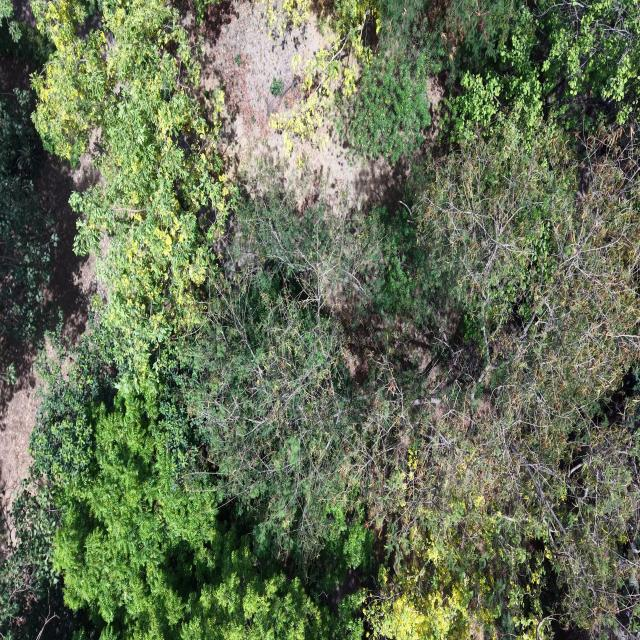DRY_AREA: (201, 2, 444, 219), (185, 0, 407, 215), (185, 0, 408, 214), (201, 2, 359, 206), (201, 2, 325, 153), (201, 0, 297, 166), (35, 152, 98, 344), (36, 153, 95, 343), (203, 0, 290, 97), (0, 335, 36, 509), (0, 341, 39, 497), (0, 372, 37, 506), (12, 0, 36, 26)
VEGETATION_TREE: (0, 0, 639, 639), (393, 125, 638, 636), (3, 325, 373, 638), (190, 172, 398, 569), (34, 0, 234, 387), (53, 395, 322, 639), (0, 326, 116, 639), (379, 0, 639, 139), (0, 61, 57, 388), (265, 0, 380, 155), (0, 89, 57, 339), (0, 483, 74, 638), (343, 48, 439, 162), (0, 2, 51, 67), (0, 0, 21, 42)
